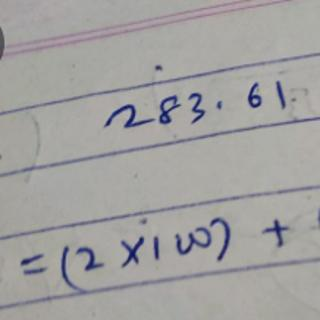.: (212, 98, 228, 114)
1: (275, 79, 290, 109), (151, 231, 159, 261)
2: (104, 99, 152, 131), (74, 243, 103, 273)
3: (186, 91, 206, 125)
6: (243, 78, 264, 109)
8: (156, 93, 180, 126)
